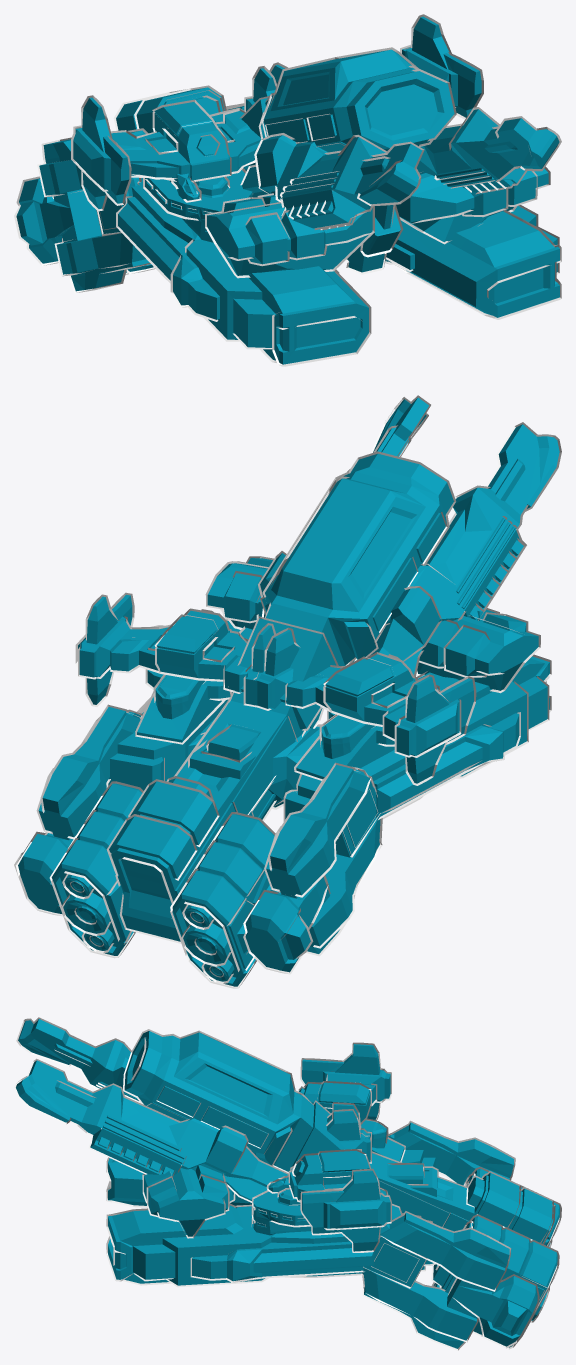
Rendered from ship10_blue.glb.
3 renders of one model, top to bottom at view 1: azimuth 30°, elevation 25°; view 2: azimuth 150°, elevation 25°; view 3: azimuth 270°, elevation 25°, orthographic. The views are drawn at different scales.
Visible parts, largest first — view 1: ME_ship_IndexedFaceSet.001, ME_ship_IndexedFaceSet; view 2: ME_ship_IndexedFaceSet, ME_ship_IndexedFaceSet.001; view 3: ME_ship_IndexedFaceSet, ME_ship_IndexedFaceSet.001.
Part boxes in pixels (x1,y1,x2,y2): ME_ship_IndexedFaceSet.001: (71, 14, 561, 366); ME_ship_IndexedFaceSet: (14, 47, 561, 293); ME_ship_IndexedFaceSet: (14, 395, 561, 988); ME_ship_IndexedFaceSet.001: (75, 556, 551, 838); ME_ship_IndexedFaceSet: (14, 1017, 561, 1350); ME_ship_IndexedFaceSet.001: (106, 1042, 438, 1287).
Bounding box in the file's own units: 352 × 323 × 573.
